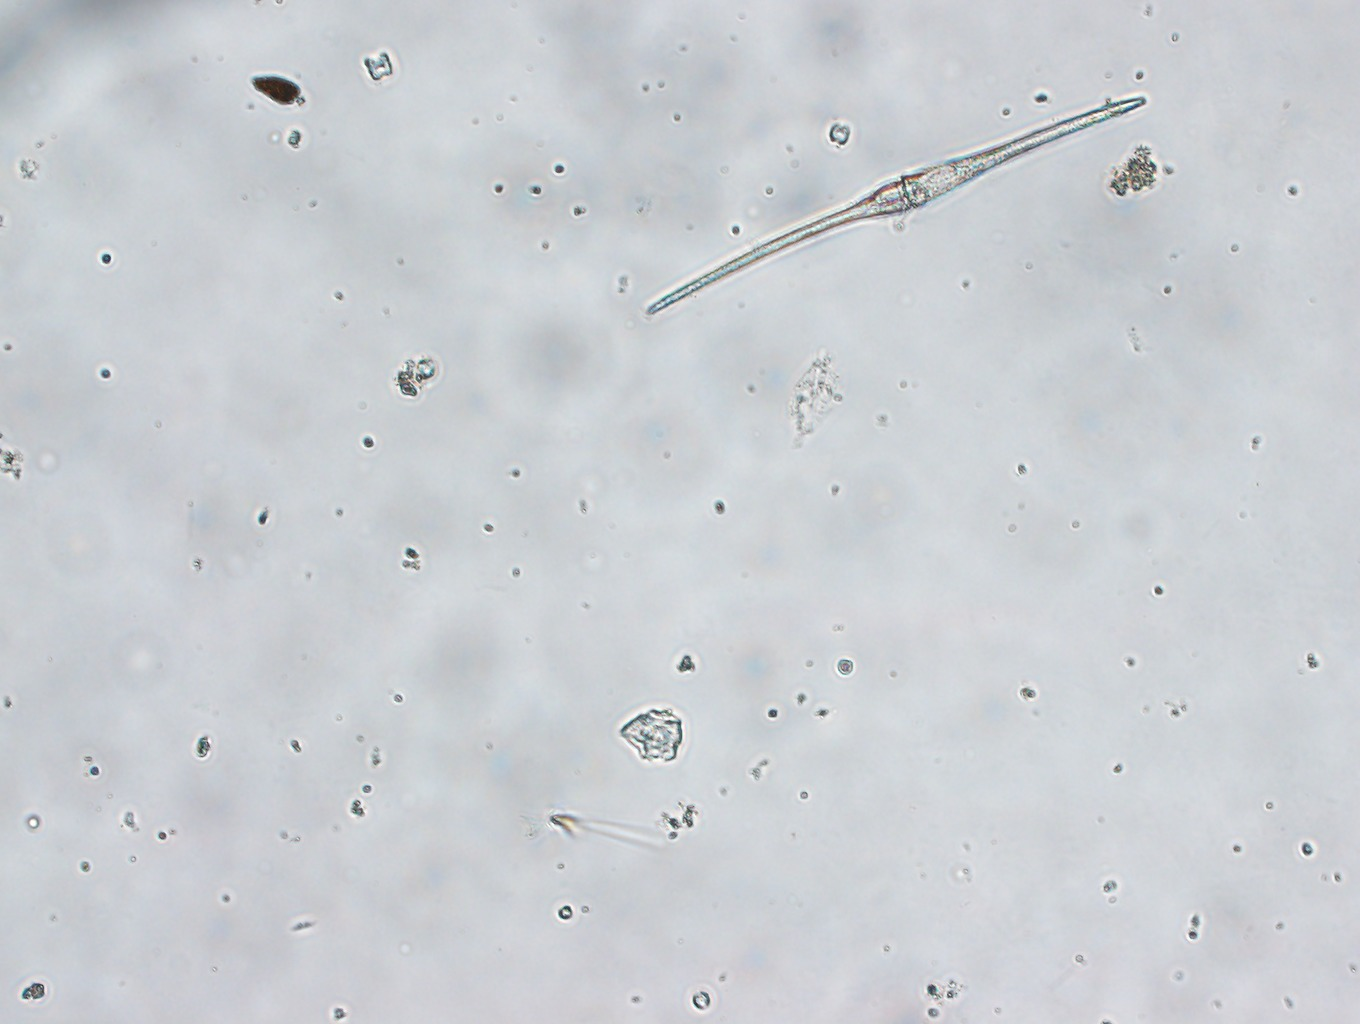ceratium fusus: (639, 89, 1149, 322)
